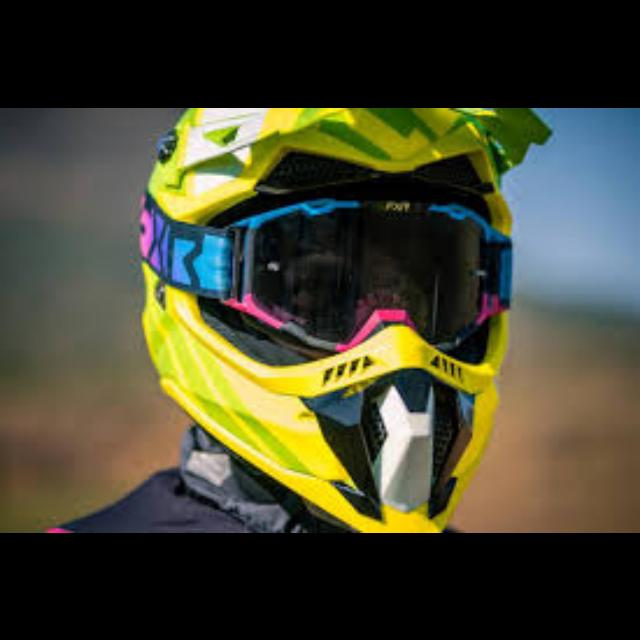motorcycle-helmets: (142, 107, 547, 531)
